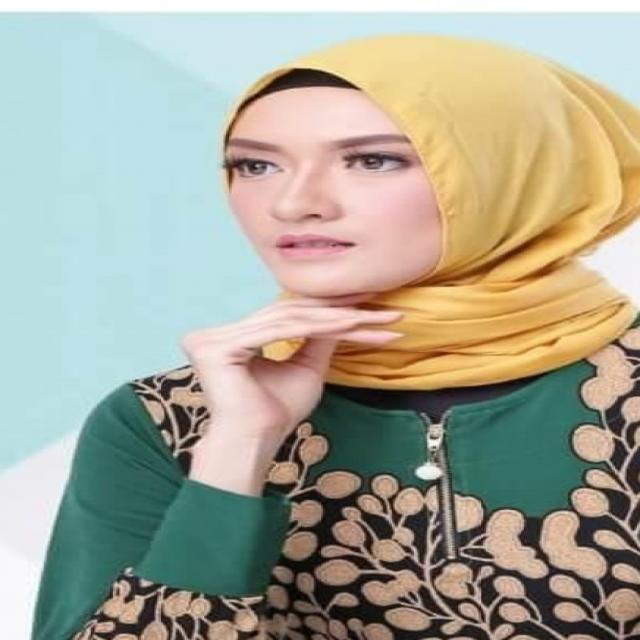head: (210, 36, 577, 302)
